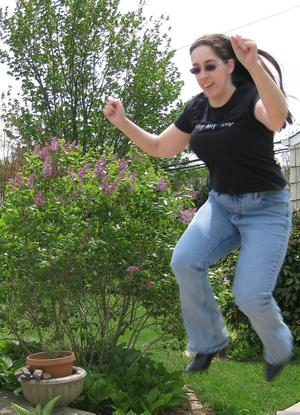person: (106, 35, 295, 385)
